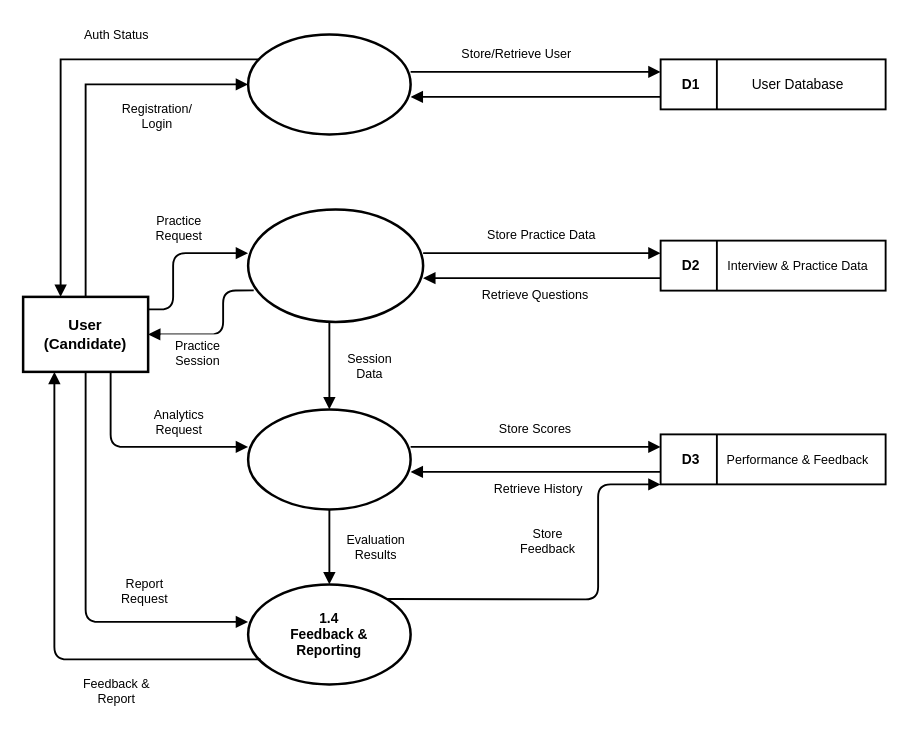
The diagram is 908 pixels wide and 730 high, and some of its shapes have lost their labels. Each missing label, with the box of its shape:
1.1 User Management: (246, 32, 411, 135)
1.2 Interview & Practice Management: (246, 208, 424, 322)
1.3 Performance Evaluation: (246, 408, 411, 510)
